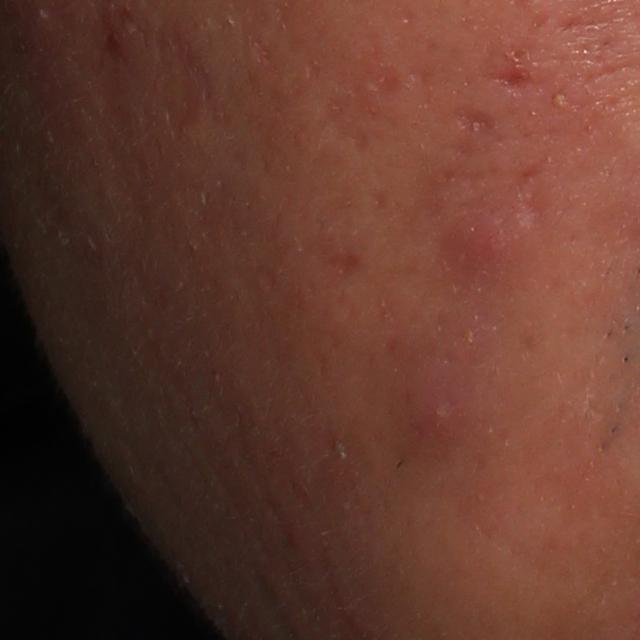atrophic_scar: (450, 101, 493, 138), (491, 65, 534, 92)
papule: (389, 361, 482, 458), (430, 194, 535, 270)
